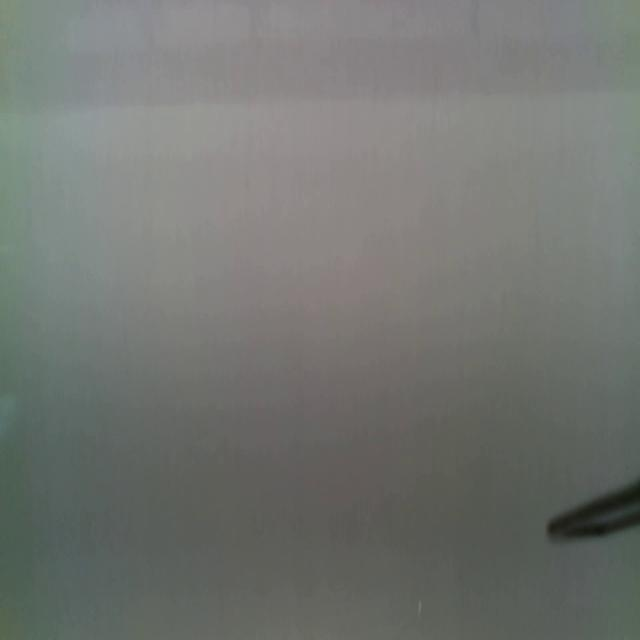color bleeding: (0, 20, 640, 120)
hole: (417, 597, 425, 624)
